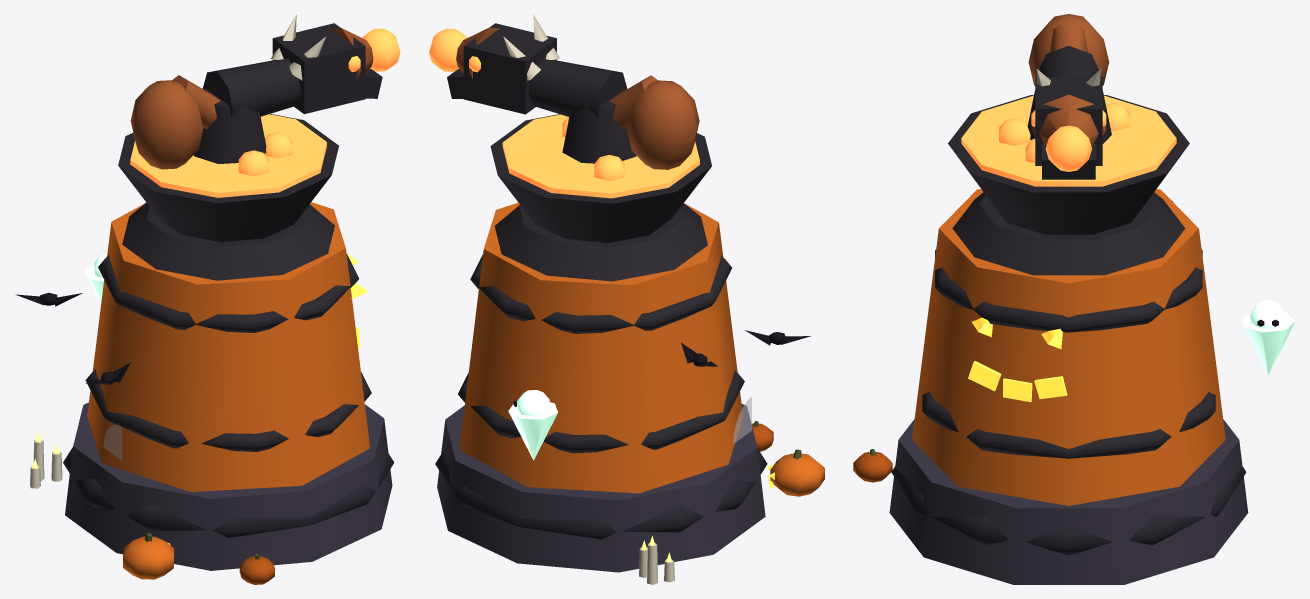
File: tower_flame.glb
The picture shows the model from 3 angles, left to right: view 1: azimuth 30°, elevation 25°; view 2: azimuth 150°, elevation 25°; view 3: azimuth 270°, elevation 25°; orthographic projection. The views are drawn at different scales.
Parts seen in each view (by area): view 1: body, base, brazier_foot, brazier_bowl, coals, dragon_head, gas_tank, soot_ring, body_band_0.3, neck, body_band_0.15, nozzle_post (+9 smaller); view 2: body, base, brazier_foot, brazier_bowl, coals, dragon_head, gas_tank, soot_ring, body_band_0.3, neck, body_band_0.15, nozzle_post (+8 smaller); view 3: body, base, brazier_foot, brazier_bowl, coals, soot_ring, body_band_0.3, body_band_0.15, dragon_head, gas_tank, deco_hw_face, dragon_muzzle (+8 smaller).
Part boxes in pixels (x1,y1,x2,y2): body: (87,202,369,491); base: (65,402,392,570); brazier_foot: (122,202,334,280); brazier_bowl: (118,114,338,242); coals: (130,114,326,197); dragon_head: (272,23,365,114); gas_tank: (130,80,203,169); soot_ring: (63,447,394,537); body_band_0.3: (98,254,359,332); neck: (202,59,301,116); body_band_0.15: (85,369,371,451); nozzle_post: (193,88,266,163); body: (459,202,742,493); base: (437,404,765,572); brazier_foot: (494,203,707,281); brazier_bowl: (490,114,711,242); coals: (502,114,699,198); dragon_head: (463,23,556,114); gas_tank: (626,80,699,169); soot_ring: (435,448,767,539); body_band_0.3: (470,254,731,333); neck: (528,59,627,117); body_band_0.15: (458,370,744,453); nozzle_post: (562,88,636,163); body: (912,189,1225,505); base: (889,419,1248,584); brazier_foot: (952,192,1185,275); brazier_bowl: (948,95,1189,234); coals: (961,95,1176,186); soot_ring: (891,466,1246,555); body_band_0.3: (935,250,1202,332); body_band_0.15: (922,392,1215,458); dragon_head: (1035,77,1102,165); gas_tank: (1028,14,1109,85); deco_hw_face: (968,361,1067,402); dragon_muzzle: (1031,94,1106,145).
Bounding box in the file's own units: 0.4777 × 0.6002 × 0.4932.
